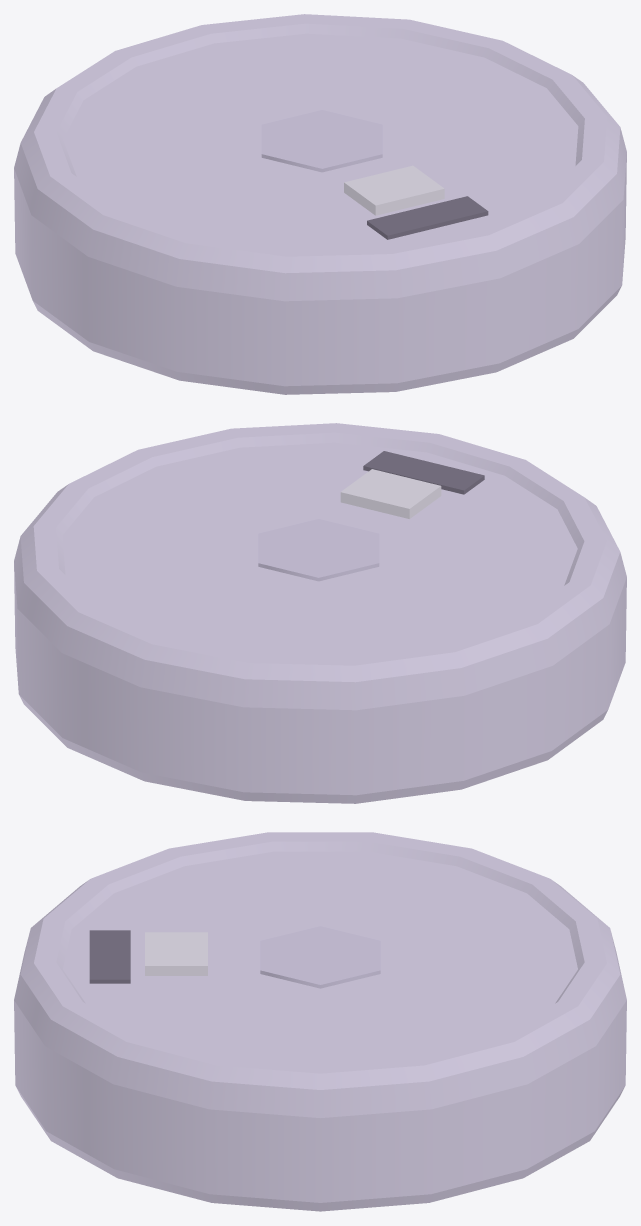
File: lid.glb
3 views of the same model, one above another, from view 1: azimuth 30°, elevation 25°; view 2: azimuth 150°, elevation 25°; view 3: azimuth 270°, elevation 25° (orthographic).
Visible parts, largest first — view 1: lid_m0; view 2: lid_m0; view 3: lid_m0.
Boxes of the visible parts, x1,y1,x2,y2 form: lid_m0: (14,14,626,394); lid_m0: (14,423,626,803); lid_m0: (14,832,626,1211).
Bounding box in the file's own units: 0.092 × 0.0225 × 0.0924.
